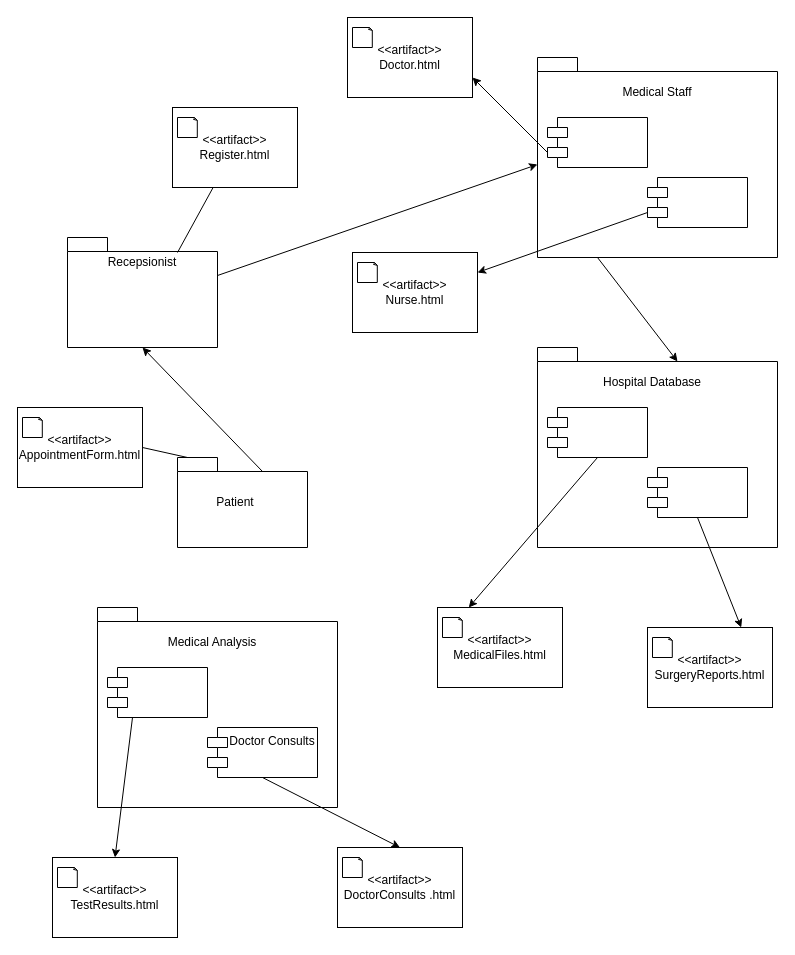
This 795x955 diagram has some shape labels left out. The shapes that lost their labels are listed below. From the top down, each one's centre as x and y in pixels, then its label:
At point (597, 142): "Doctor/ Surgeon".
At point (697, 202): "Nurse".
At point (597, 432): "Medical Files".
At point (697, 492): "Surgery Reports".
At point (157, 692): "Test Results".
